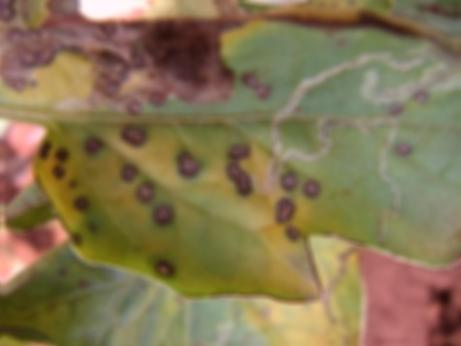Tomato Septoria leaf spot: (28, 21, 460, 315)
